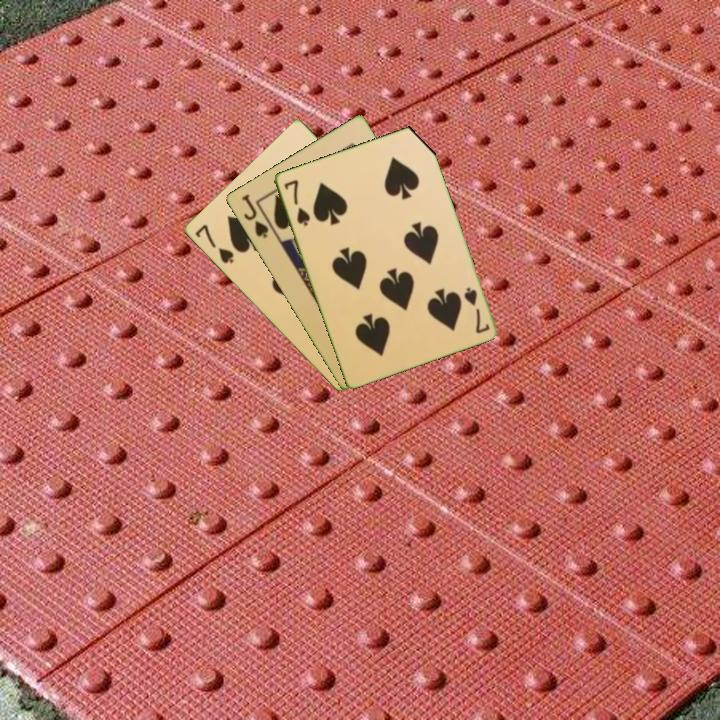7s: (191, 221, 236, 266), (280, 176, 313, 229), (460, 283, 492, 336)
Js: (238, 190, 271, 241)
